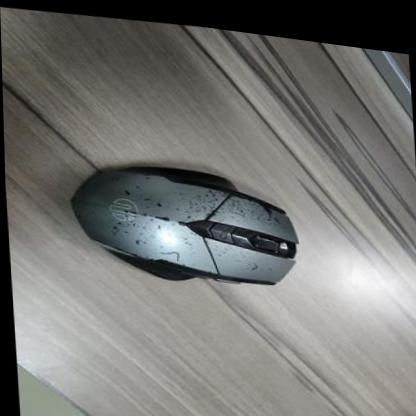mouserotation: (66, 147, 303, 296)
